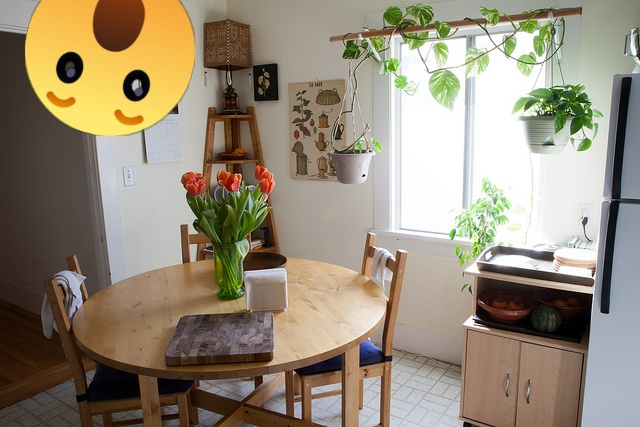wow: (25, 0, 195, 136)
